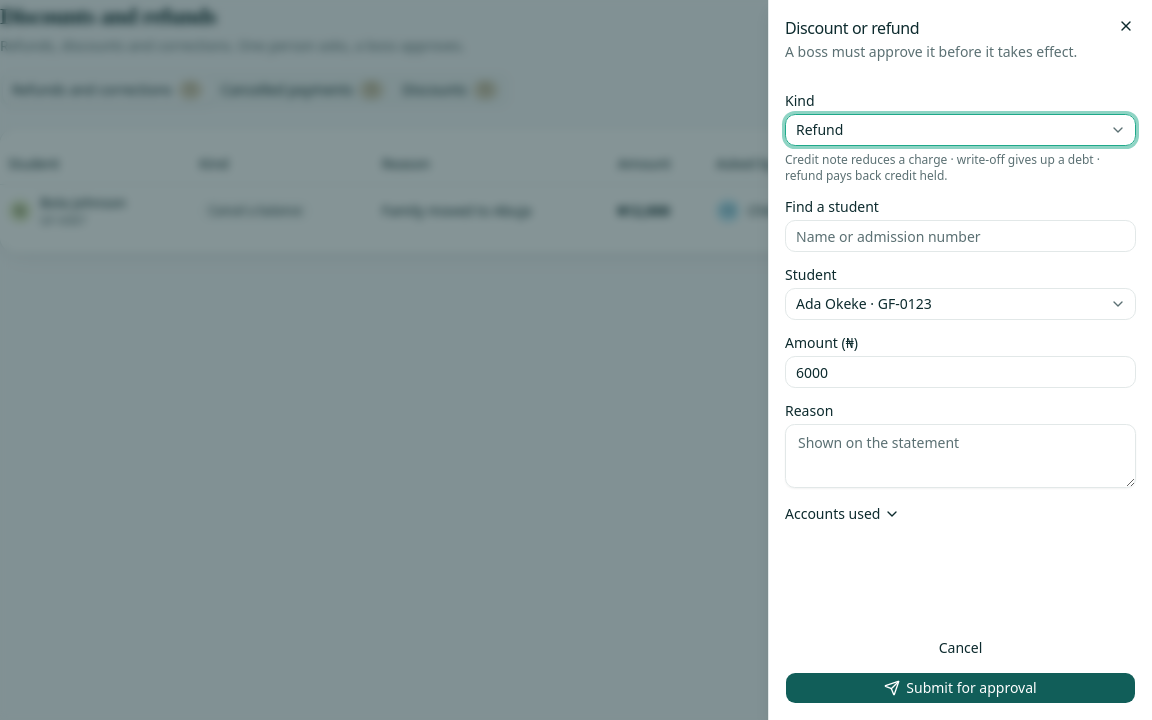
it: the New request sheet › shows the message of the API’s refusal in the sheet
Type "Overpaid" into the text box labelled "Reason" at (960, 456), box [785, 424, 1136, 488]
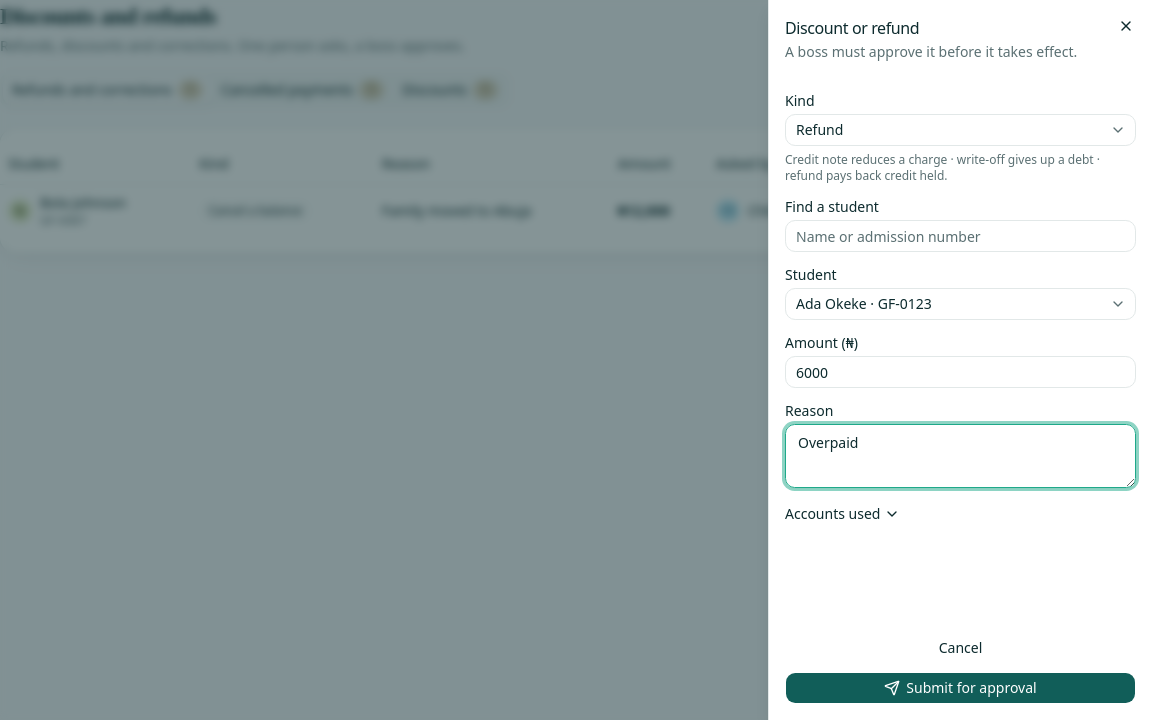
Click the button "Submit for approval" at (960, 688), box [785, 672, 1136, 704]
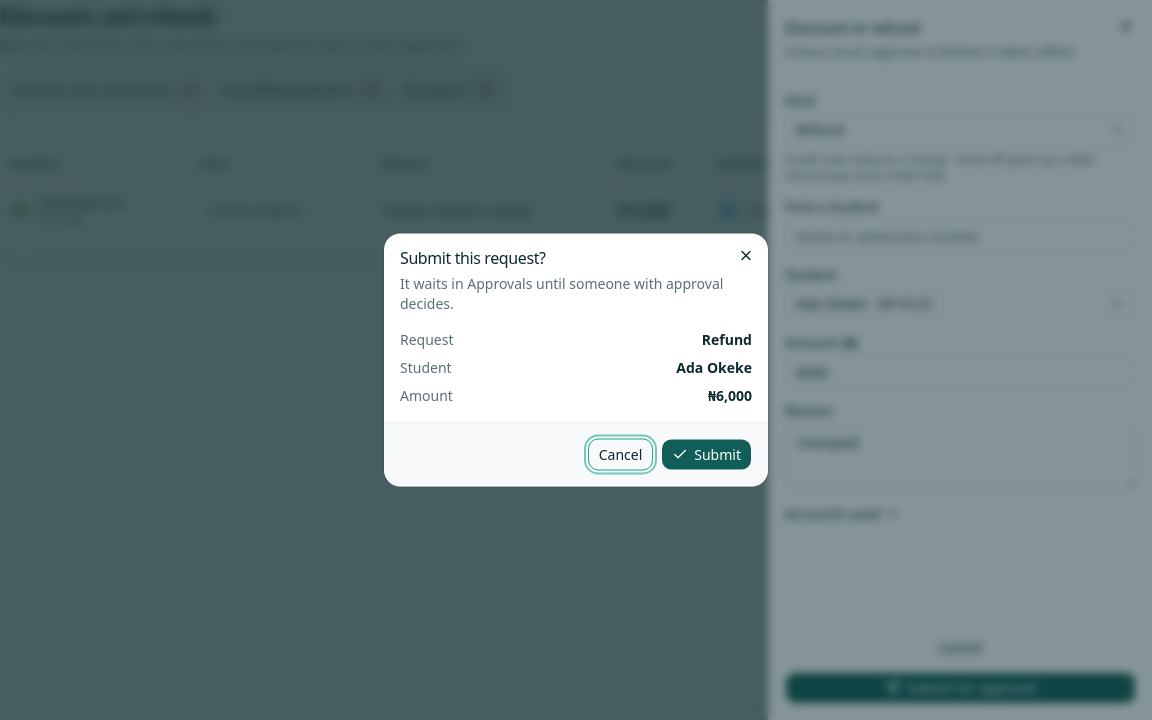
Click the button "Submit" at (707, 454), box [661, 438, 752, 470]
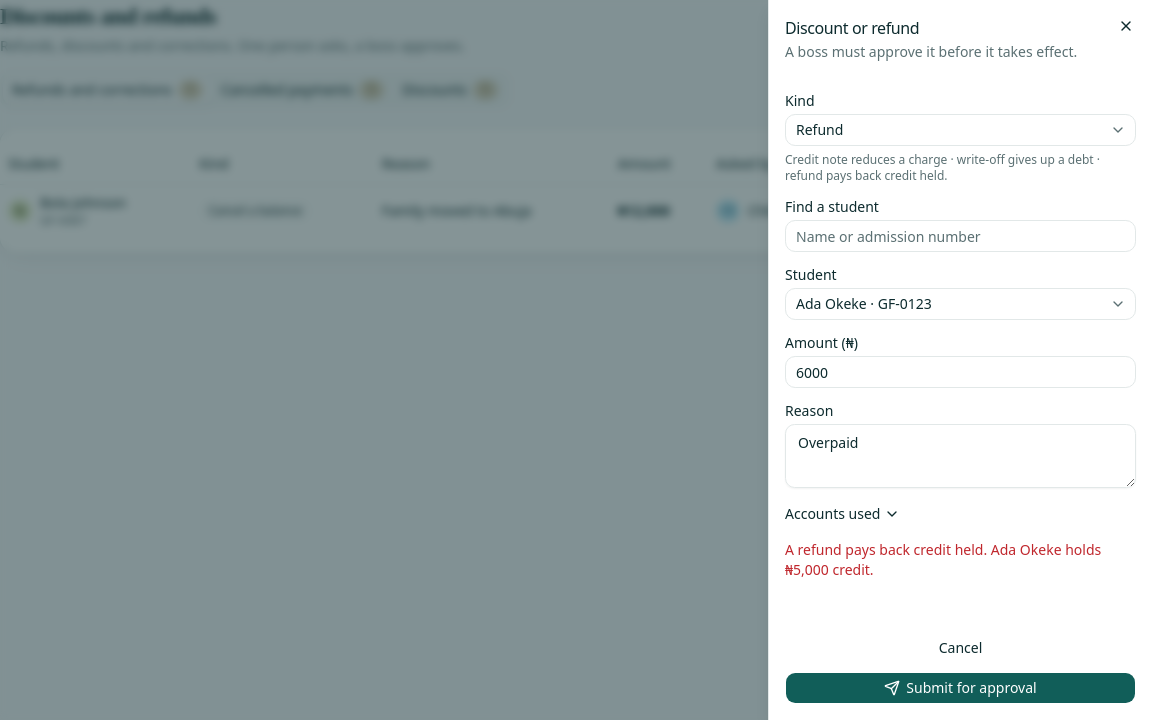
Expected: the text "A refund pays back credit held. Ada Okeke holds ₦5,000 credit." is shown, [785, 540, 1136, 580]
